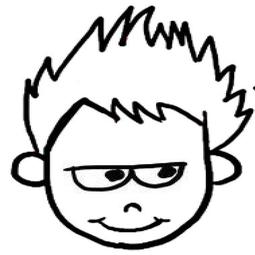ear: (8, 148, 54, 190), (200, 151, 244, 189)
eye: (65, 155, 132, 194), (129, 157, 199, 192)
mouth: (88, 210, 171, 238)
nose: (117, 201, 145, 214)
